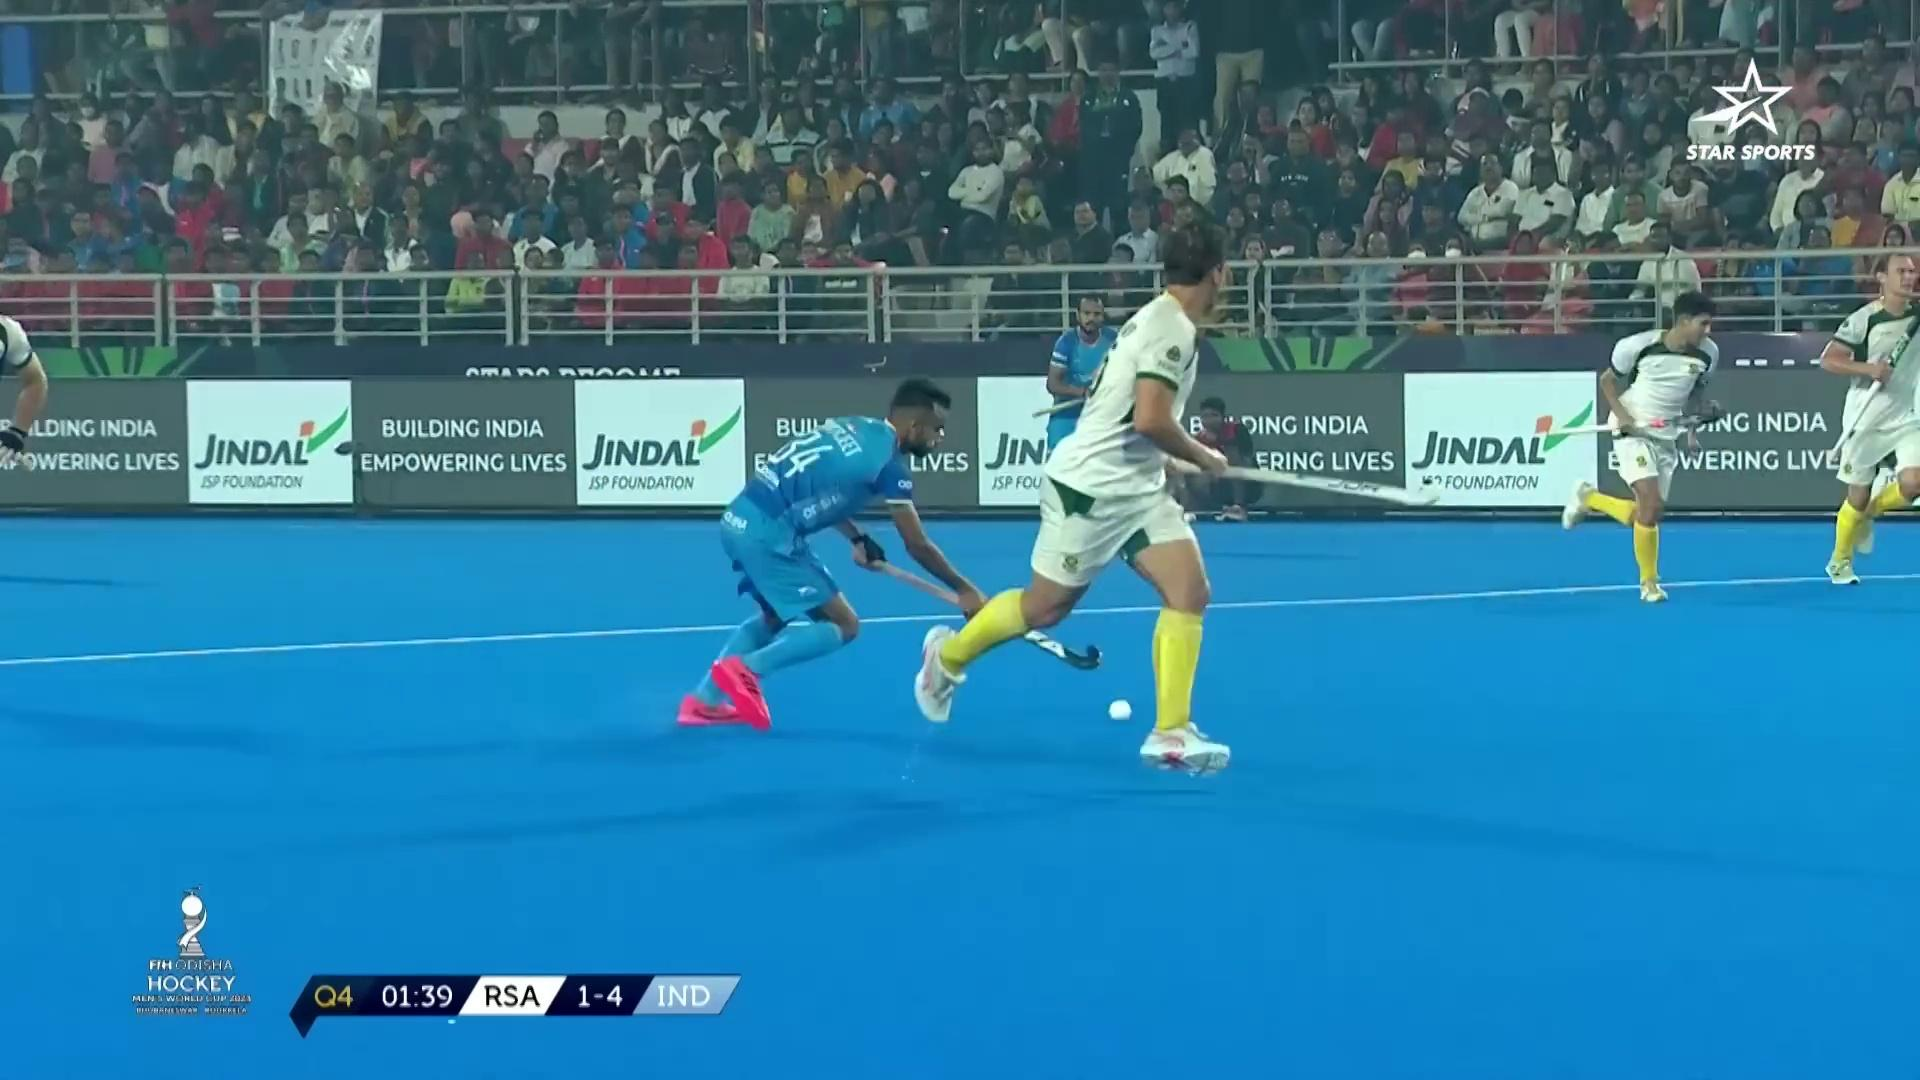ball: (1091, 671, 1151, 731)
